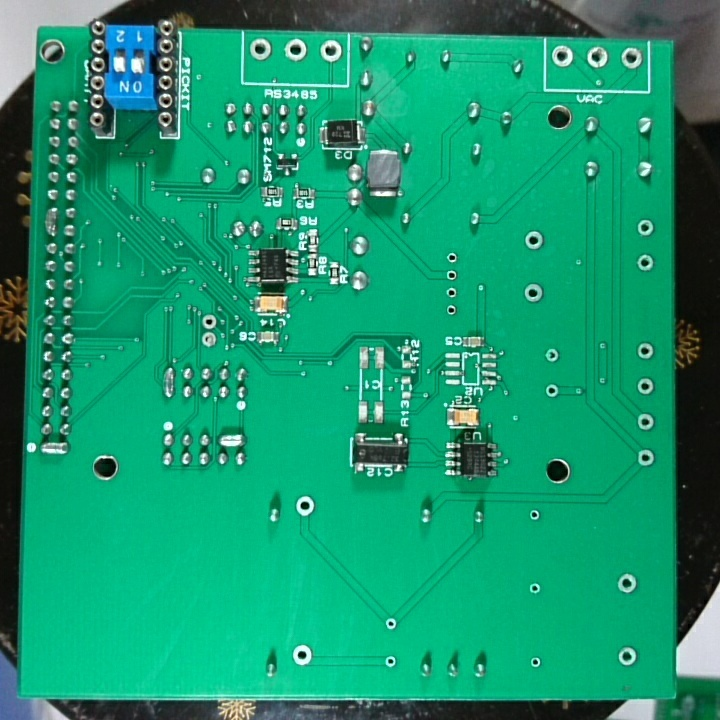F: (317, 38, 344, 66), (248, 35, 274, 64), (282, 37, 310, 63), (584, 46, 610, 73), (619, 45, 645, 72), (290, 642, 314, 669), (614, 644, 639, 669), (551, 44, 576, 69), (615, 571, 639, 596), (522, 280, 546, 305), (634, 446, 657, 472), (523, 229, 546, 255), (293, 493, 316, 518), (632, 215, 657, 238), (634, 375, 658, 397), (634, 411, 657, 433), (634, 340, 656, 362), (635, 252, 656, 275), (199, 329, 218, 349), (542, 381, 561, 401), (542, 345, 561, 364), (442, 266, 461, 285), (199, 312, 218, 330), (443, 249, 462, 267), (526, 578, 542, 599), (527, 653, 544, 672), (526, 505, 542, 525), (382, 653, 399, 671), (382, 615, 399, 632), (443, 285, 461, 300), (444, 301, 459, 318)
P: (37, 438, 71, 457), (215, 430, 247, 450), (160, 365, 177, 400), (42, 204, 59, 238)
